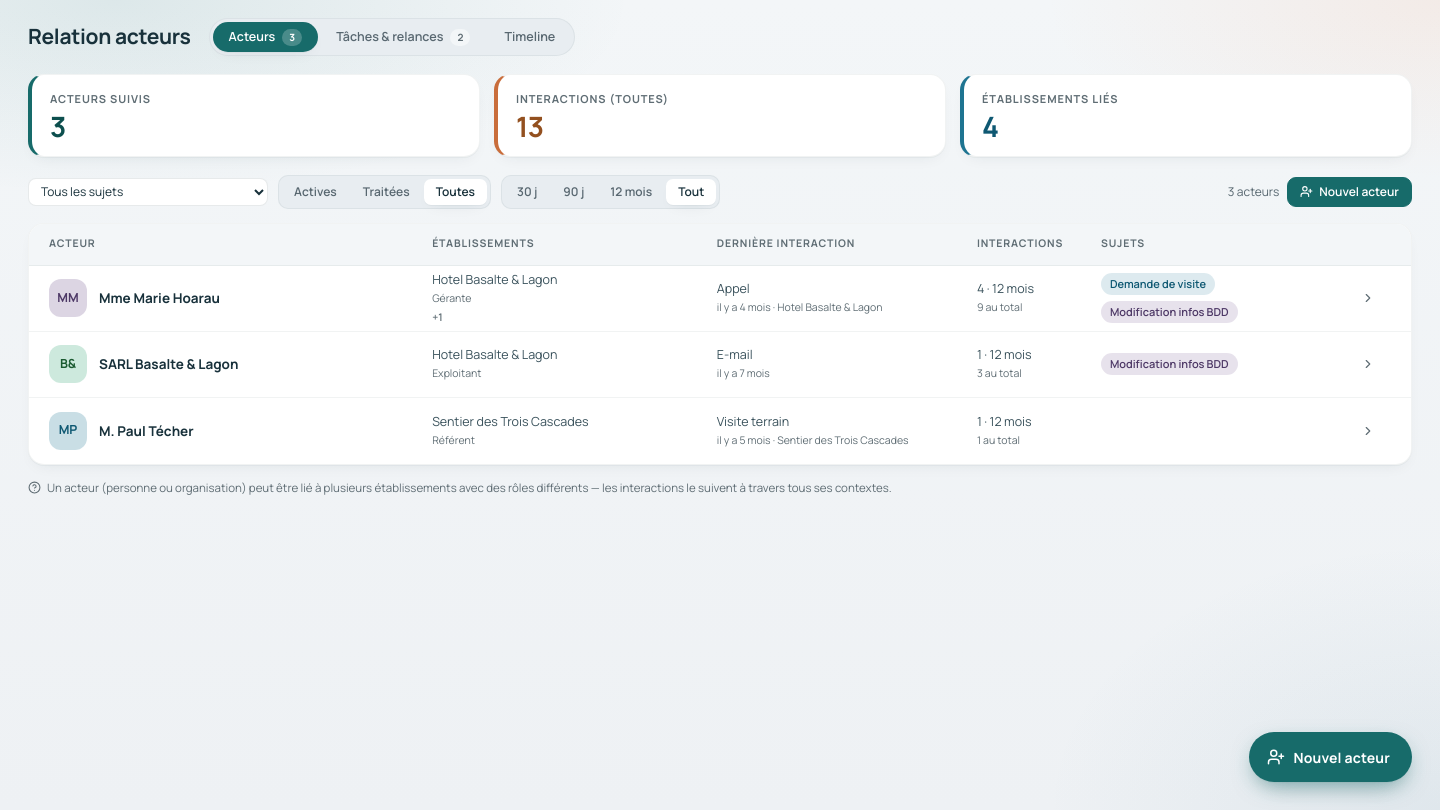
Test: CrmPage (§61 — shell acteur-centré) › vue établissement ouverte depuis un onglet : le libellé du retour nomme cet onglet
Check: the text "Mme Marie Hoarau" is shown, box [99,288,220,308]
Click the button "Tâches & relances 2" at (403, 37), box [320,22,486,52]
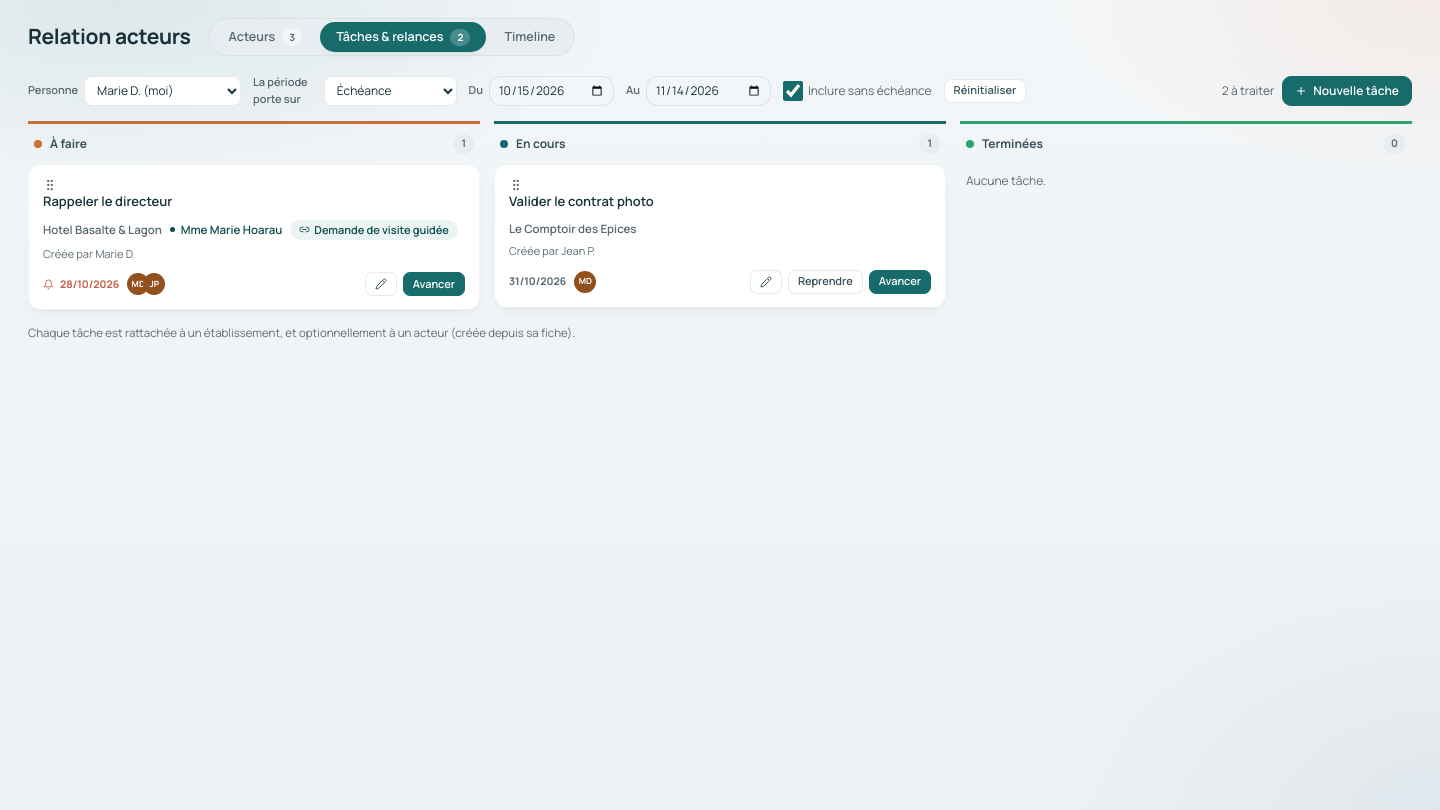
Check: the text "Rappeler le directeur" is shown, box [43,192,172,210]
// Drill-in établissement depuis la ligne de tâche (pas de fiche acteur d'origine).
Click the button "Hotel Basalte & Lagon" at (102, 230), box [43,221,162,239]
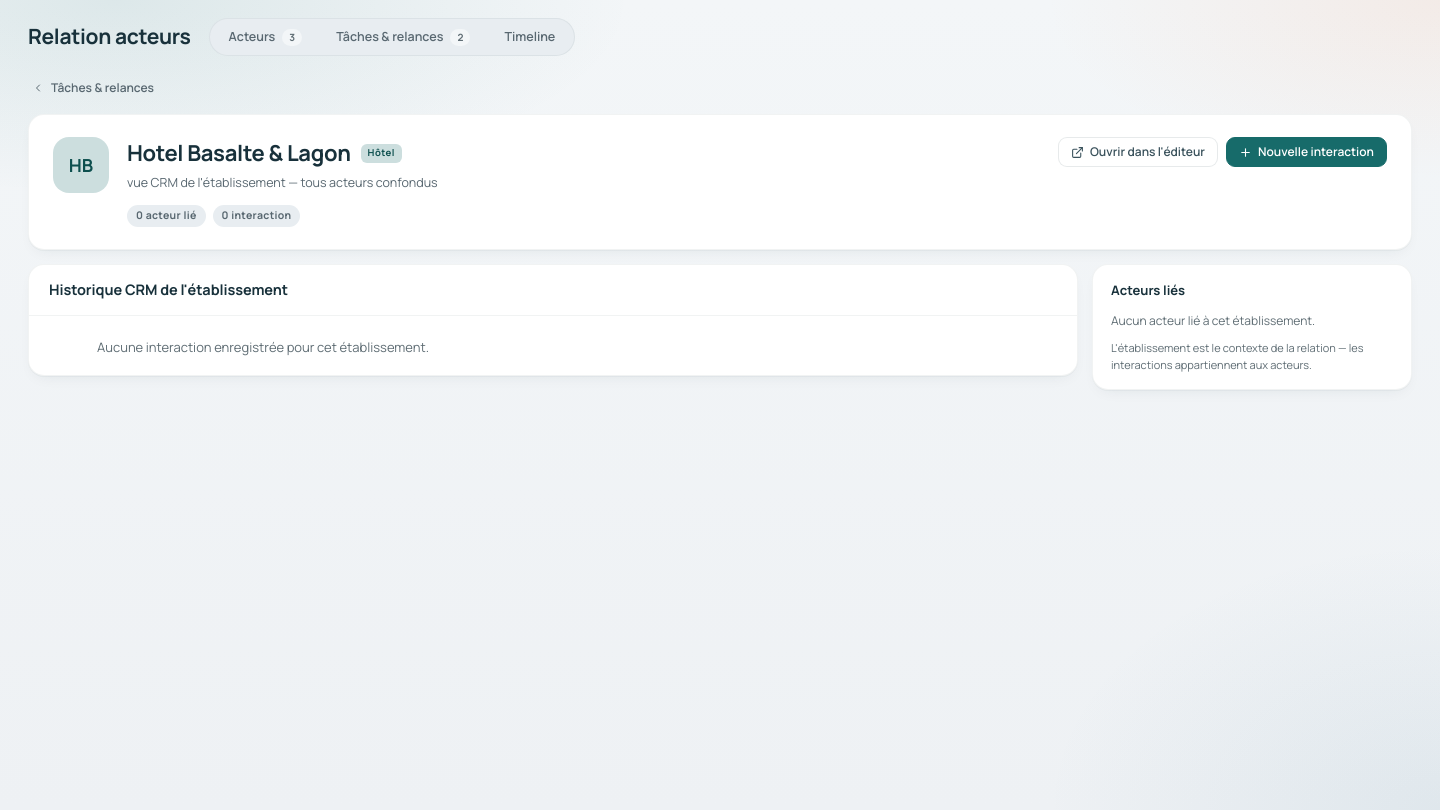
Check: the link "Ouvrir dans l'éditeur" is shown, box [1058,137,1218,167]
Check: the button "Tâches & relances" is shown, box [28,74,162,102]
